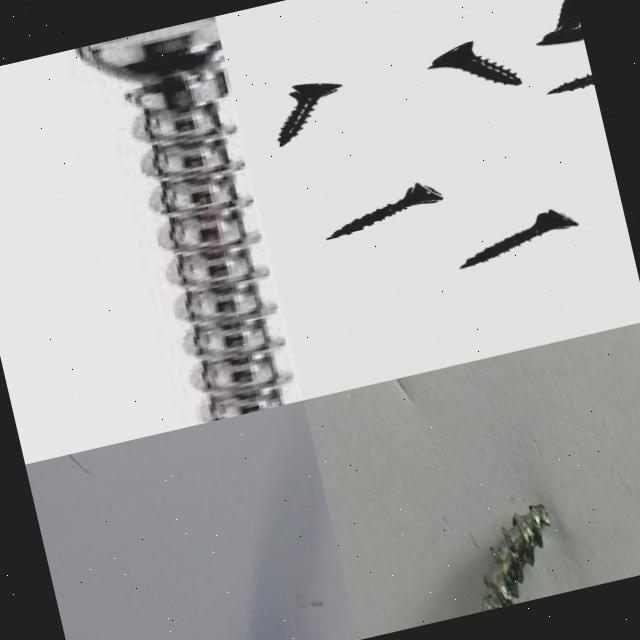Screw: (75, 16, 296, 423), (479, 502, 549, 612), (461, 209, 579, 267), (327, 183, 444, 239), (429, 40, 523, 84), (278, 82, 342, 146), (538, 0, 583, 44), (549, 74, 594, 93)
